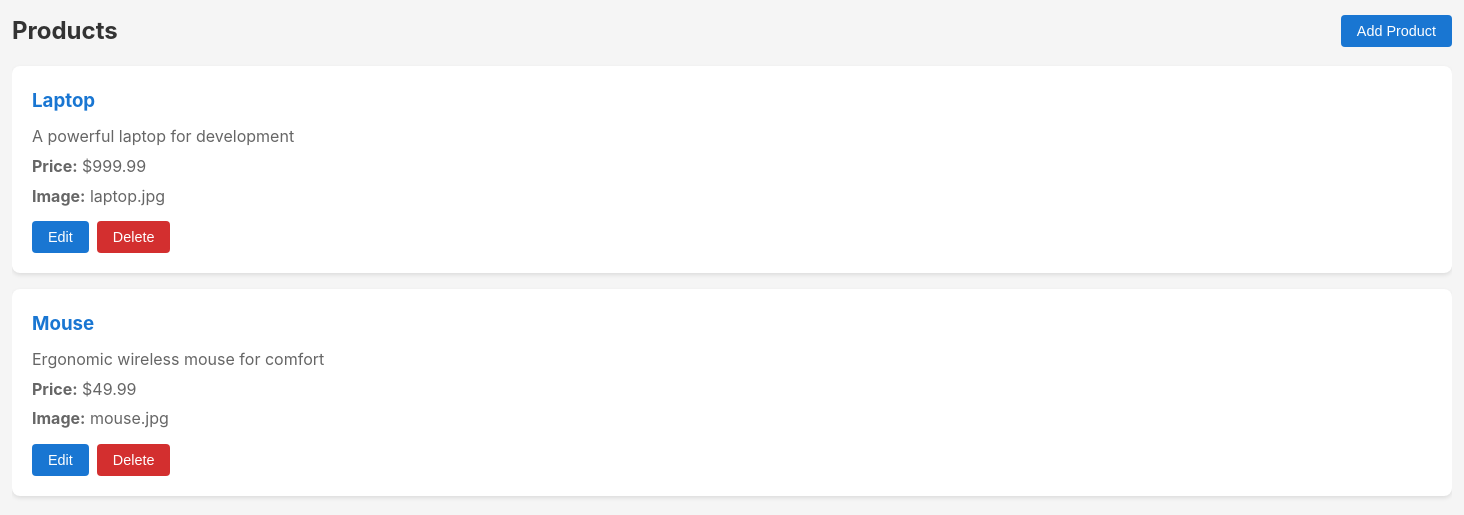
Scenario: ProductList › closes form and reloads products
Click the button "Add Product" at [1396, 31], box top-left (1341, 15), bottom-right (1452, 47)
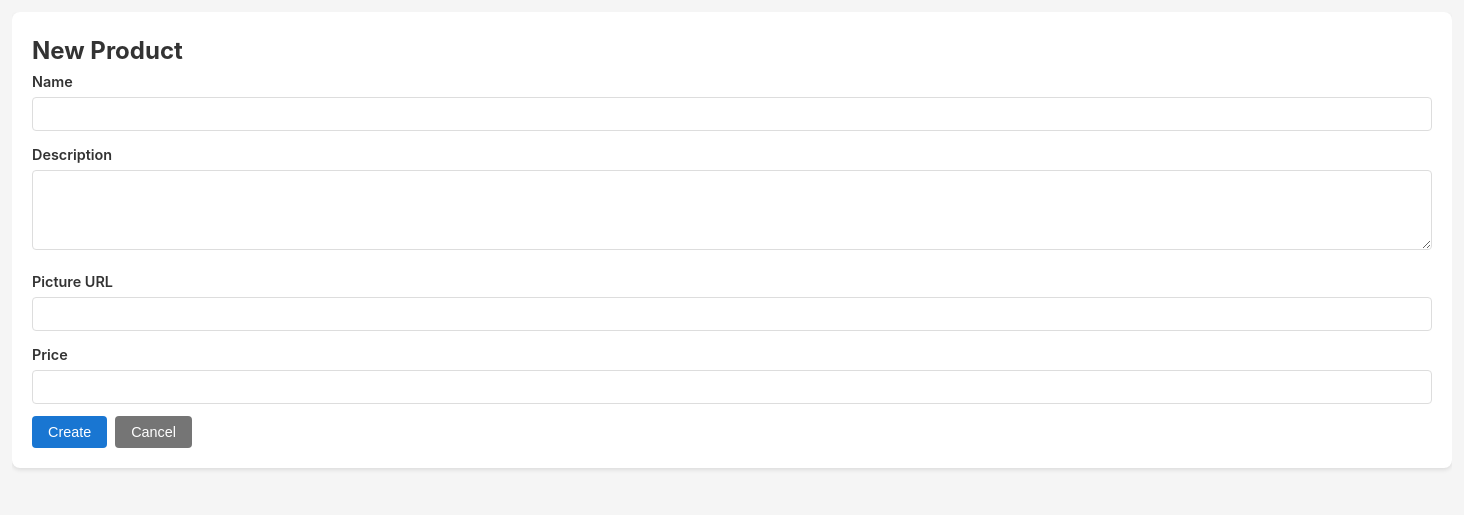
Expected: the heading "New Product" is shown, top-left (32, 36), bottom-right (183, 65)
Click the button "Cancel" at [154, 432], box top-left (115, 416), bottom-right (192, 448)
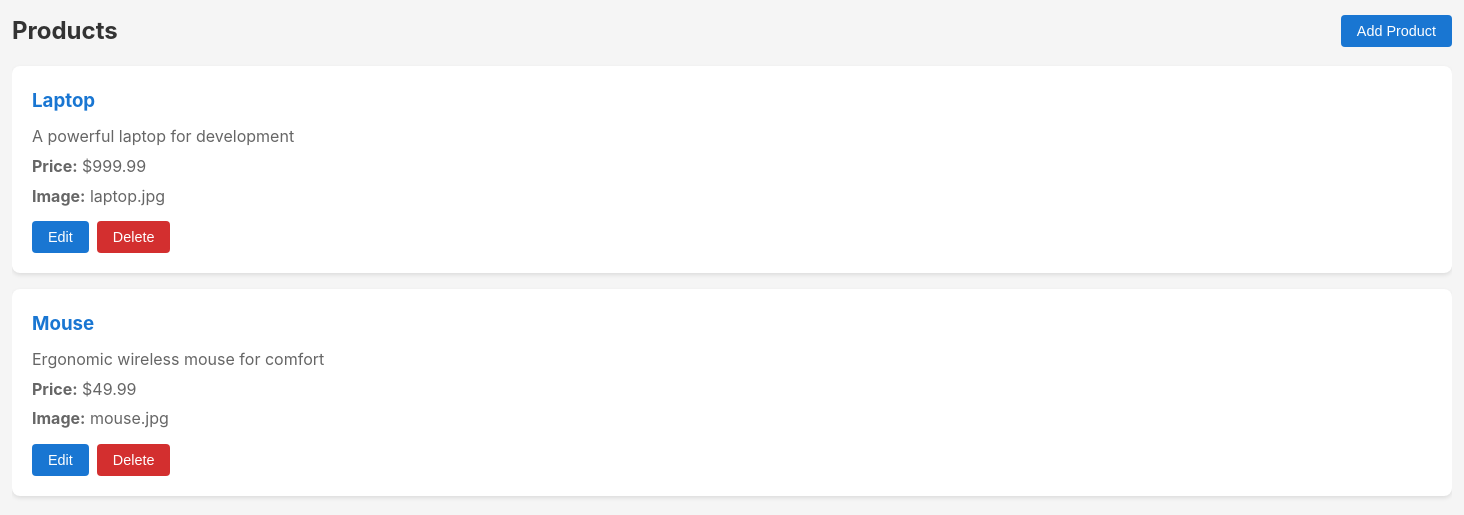
Expected: the heading "Laptop" is shown, top-left (32, 89), bottom-right (95, 112)
